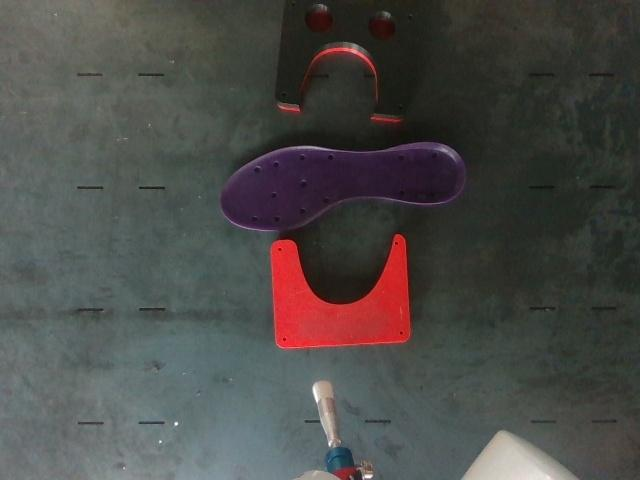shoes: (221, 142, 466, 230)
